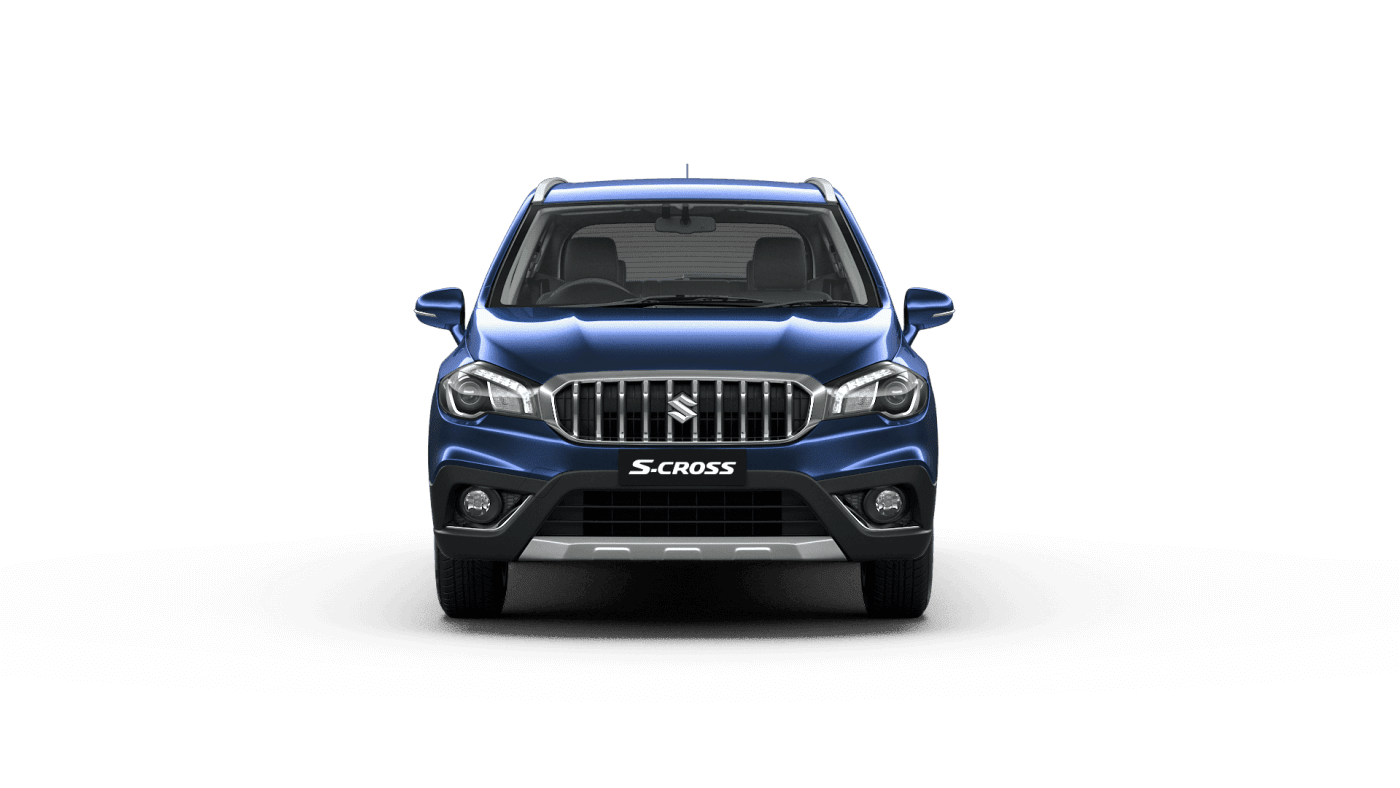Car: (394, 134, 966, 651)
